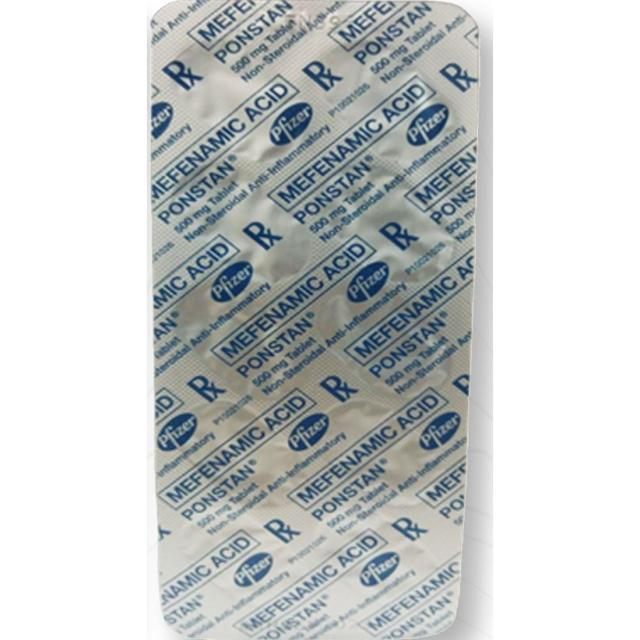blister: (145, 4, 489, 634)
